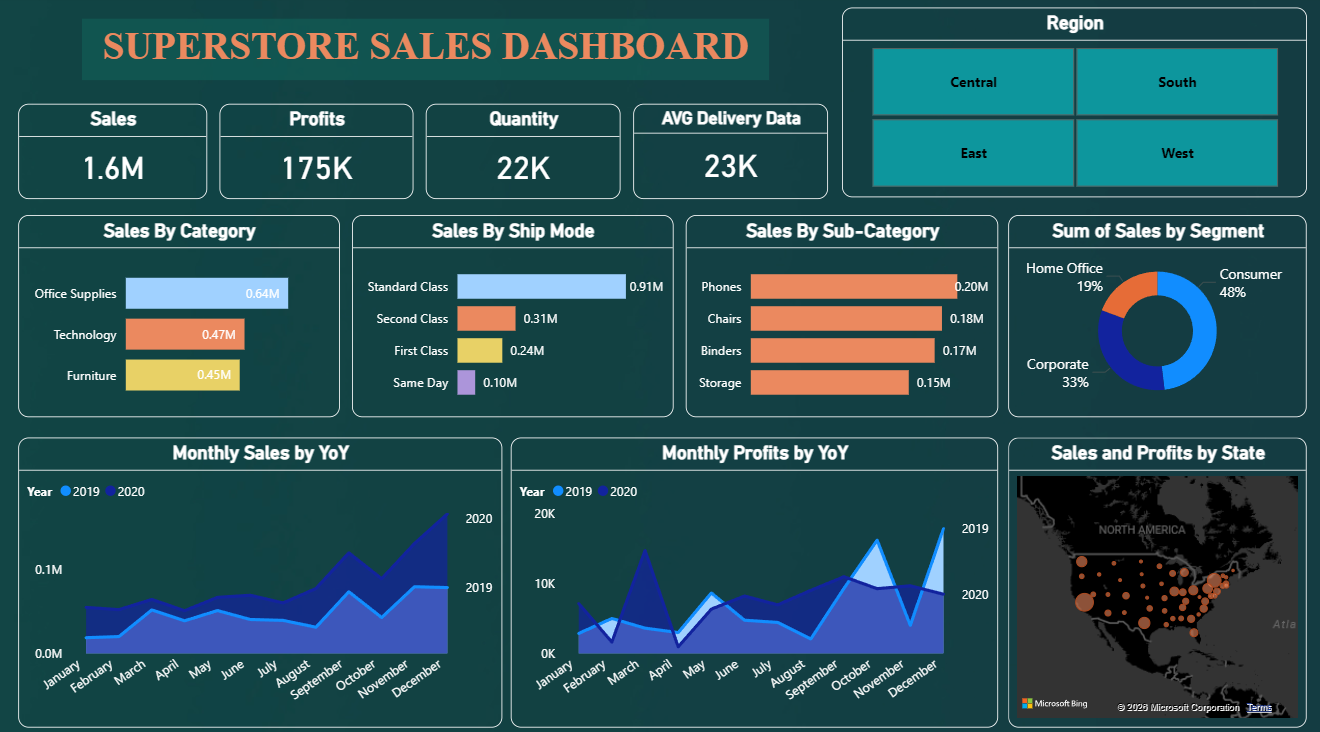

The page's visual inventory and layout, read from the dashboard file:
{"tool":"powerbi","page":{"name":"Page 1","canvas":[1280,720],"ordinal":0},"visuals":[{"type":"barChart","title":"Sales By Category","fields":{"Y":["Sum(SuperStore_Sales.Sales)"],"Category":["SuperStore_Sales.Category"]},"box":[20.5,212.3,310.1,195.4],"z":0},{"type":"barChart","title":"Sales By Ship Mode","fields":{"Y":["Sum(SuperStore_Sales.Sales)"],"Category":["SuperStore_Sales.Ship Mode"]},"box":[342.6,212.3,310.1,195.4],"z":1000},{"type":"barChart","title":"Sales By Sub-Category","fields":{"Y":["Sum(SuperStore_Sales.Sales)"],"Category":["SuperStore_Sales.Sub-Category"]},"box":[664.7,212.3,301.6,195.4],"z":2000},{"type":"areaChart","title":"Monthly Sales by YoY","fields":{"Category":["SuperStore_Sales.Order Date.Variation.Date Hierarchy.Month"],"Y":["Sum(SuperStore_Sales.Sales)"],"Series":["SuperStore_Sales.Order Date.Variation.Date Hierarchy.Year"]},"box":[20.5,427.1,466.9,279.9],"z":3000},{"type":"areaChart","title":"Monthly Profits by YoY","fields":{"Series":["SuperStore_Sales.Order Date.Variation.Date Hierarchy.Year"],"Category":["SuperStore_Sales.Order Date.Variation.Date Hierarchy.Month"],"Y":["Sum(SuperStore_Sales.Profit)"]},"box":[495.8,427.1,470.5,279.9],"z":4000},{"type":"map","title":" Sales and Profits by State","fields":{"Category":["SuperStore_Sales.State"],"Size":["Sum(SuperStore_Sales.Sales)"]},"box":[976,427.1,288.3,279.9],"z":5000},{"type":"donutChart","fields":{"Category":["SuperStore_Sales.Segment"],"Y":["Sum(SuperStore_Sales.Sales)"]},"box":[976,212.3,288.3,195.4],"z":6000},{"type":"card","title":"Sales","fields":{"Values":["Sum(SuperStore_Sales.Sales)"]},"box":[20.5,105,182.2,91.7],"z":7000},{"type":"card","title":"Profits","fields":{"Values":["Sum(SuperStore_Sales.Profit)"]},"box":[214.7,105,187,91.7],"z":8000},{"type":"card","title":"Quantity","fields":{"Values":["Sum(SuperStore_Sales.Quantity)"]},"box":[413.8,105,188.2,91.7],"z":9000},{"type":"slicer","title":"Region","fields":{"Values":["SuperStore_Sales.Region"]},"box":[815.6,12.1,448.8,183.4],"z":10000},{"type":"card","title":"AVG Delivery Data","fields":{"Values":["Sum(SuperStore_Sales.AvgDeliveryDate)"]},"box":[614.1,105,188.2,91.7],"z":11000},{"type":"textbox","box":[82,22.9,663.5,59.1],"z":12000}]}

Visuals, with their boxes in screenshot pixels (x1, y1, x2, y2), scaled from the page's 1280x720 canvas onto the 1320x732 screenshot:
"Sales By Category" barChart: BBox(21, 216, 341, 414)
"Sales By Ship Mode" barChart: BBox(353, 216, 673, 414)
"Sales By Sub-Category" barChart: BBox(685, 216, 996, 414)
"Monthly Sales by YoY" areaChart: BBox(21, 434, 503, 719)
"Monthly Profits by YoY" areaChart: BBox(511, 434, 996, 719)
" Sales and Profits by State" map: BBox(1006, 434, 1304, 719)
donutChart - SuperStore_Sales.Segment x Sum(SuperStore_Sales.Sales): BBox(1006, 216, 1304, 414)
"Sales" card: BBox(21, 107, 209, 200)
"Profits" card: BBox(221, 107, 414, 200)
"Quantity" card: BBox(427, 107, 621, 200)
"Region" slicer: BBox(841, 12, 1304, 199)
"AVG Delivery Data" card: BBox(633, 107, 827, 200)
textbox: BBox(85, 23, 769, 83)
